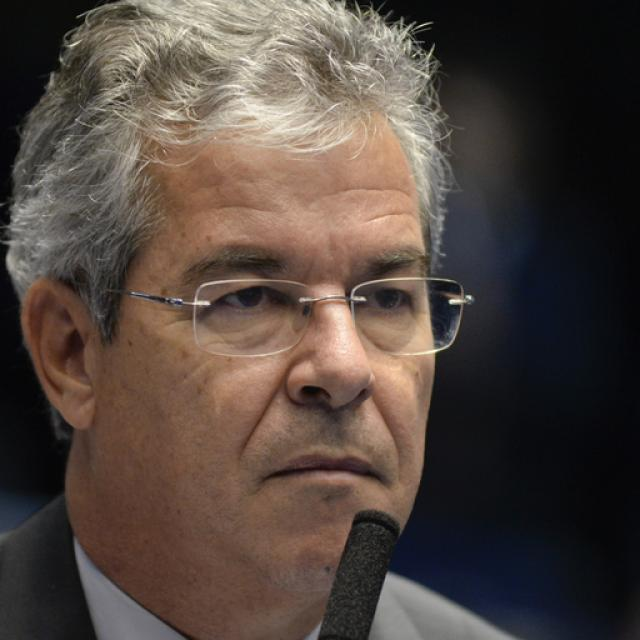Wrinkle: (233, 361, 289, 453), (372, 389, 405, 476), (328, 180, 413, 200), (367, 205, 419, 227), (215, 198, 276, 213)
